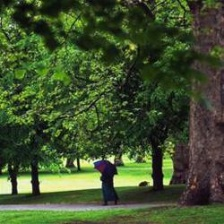neutral: (4, 2, 224, 221)
